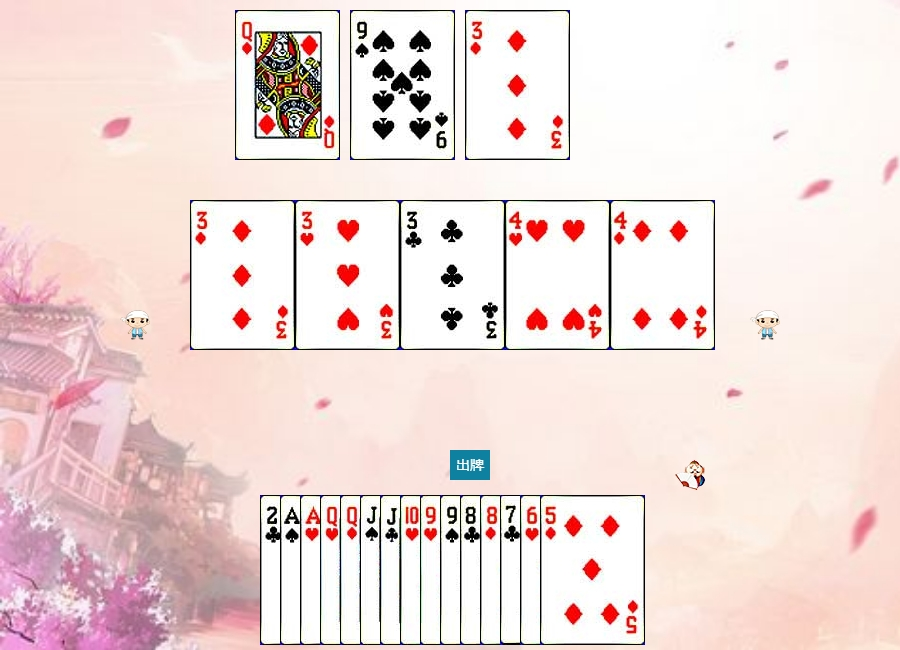10~3: (400, 495, 505, 645)
11~2: (380, 495, 485, 645)
11~4: (360, 495, 465, 645)
12~1: (235, 10, 340, 160), (340, 495, 445, 645)
12~3: (320, 495, 425, 645)
14~3: (300, 495, 405, 645)
14~4: (280, 495, 385, 645)
15~2: (260, 495, 365, 645)
3~1: (465, 10, 570, 160), (190, 200, 295, 350)
3~2: (400, 200, 505, 350)
3~3: (295, 200, 400, 350)
4~1: (610, 200, 715, 350)
4~3: (505, 200, 610, 350)
5~1: (540, 495, 645, 645)
6~3: (520, 495, 625, 645)
7~2: (500, 495, 605, 645)
8~1: (480, 495, 585, 645)
8~2: (460, 495, 565, 645)
9~3: (420, 495, 525, 645)
9~4: (350, 10, 455, 160), (440, 495, 545, 645)
